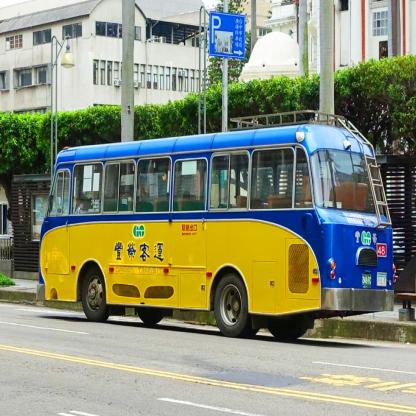Bus: (35, 108, 397, 339)
